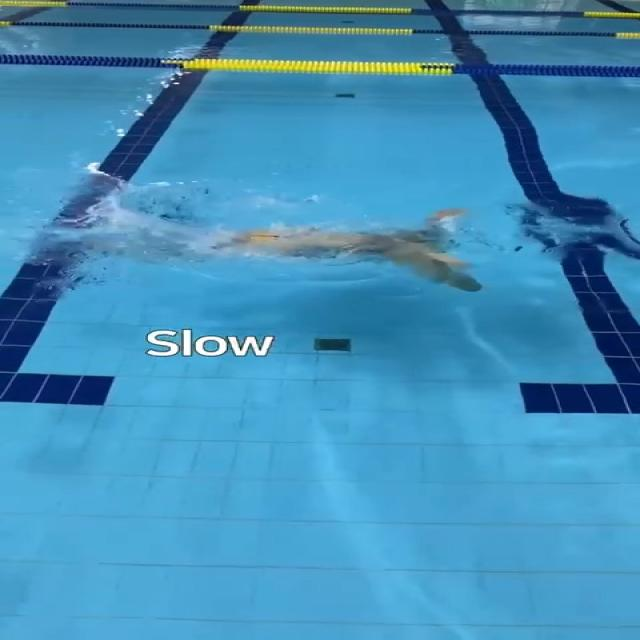Swimming: (13, 167, 560, 306)
